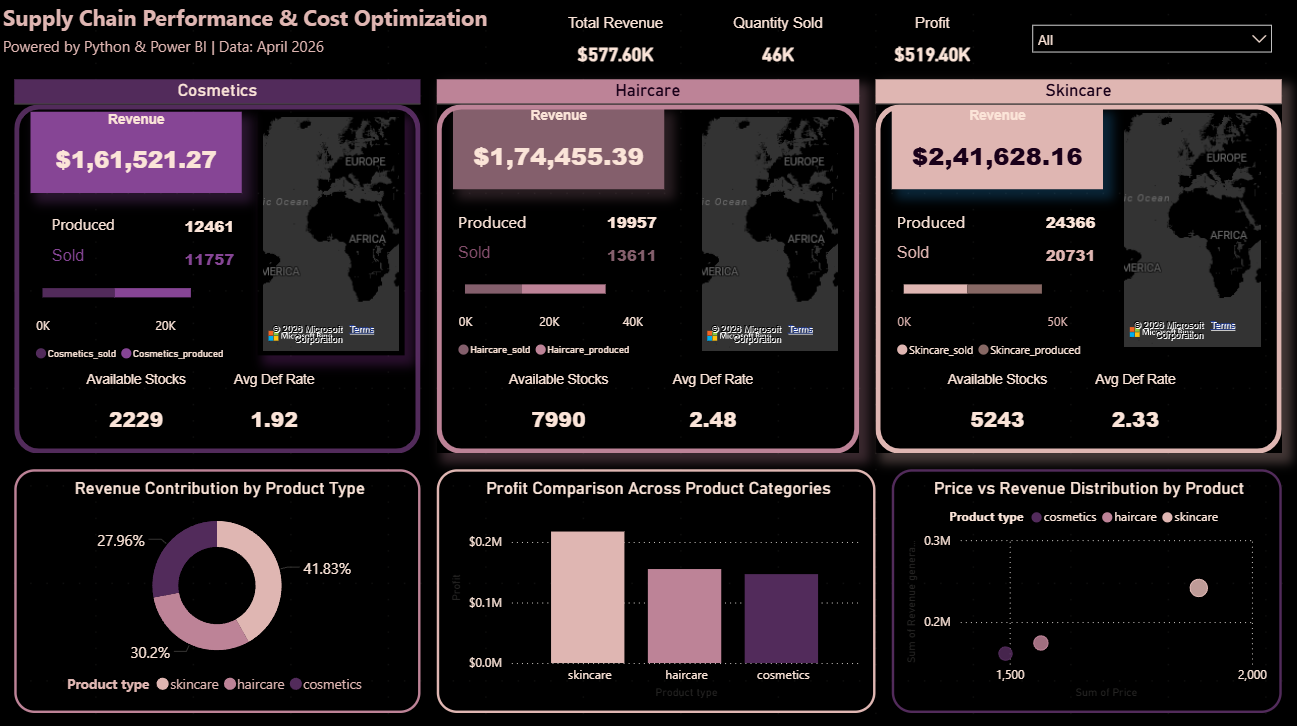

The dashboard page shown, as its layout file describes it:
{"tool":"powerbi","page":{"name":"Supply Chain Dashboard","canvas":[1280,720],"ordinal":0},"visuals":[{"type":"textbox","box":[0,0,496,48],"z":0},{"type":"textbox","box":[0,32,336,48],"z":1000},{"type":"cardVisual","title":"Total Revenue","fields":{"Data":["_Measures.Total_revenue"]},"box":[512,16,192,64],"z":2000},{"type":"cardVisual","title":"Quantity Sold","fields":{"Data":["_Measures.Total_quantity_sold"]},"box":[672,16,192,64],"z":3000},{"type":"cardVisual","title":"Revenue","fields":{"Data":["_Measures.Cosmetics_revenue"]},"box":[32,112,208,80],"z":4000},{"type":"cardVisual","title":"Revenue","fields":{"Data":["_Measures.Haircare_revenue"]},"box":[448,108.5,208,80],"z":5000},{"type":"cardVisual","title":"Revenue","fields":{"Data":["_Measures.Skincare_revenue"]},"box":[880,108.5,208,80],"z":6000},{"type":"cardVisual","title":"Total Revenue","fields":{"Data":["_Measures.Cosmetics_produced"]},"box":[160,192,96,64],"z":7000},{"type":"cardVisual","title":"Total Revenue","fields":{"Data":["_Measures.Haircare_produced"]},"box":[576,188.5,96,64],"z":8000},{"type":"cardVisual","title":"Total Revenue","fields":{"Data":["_Measures.Skincare_produced"]},"box":[1008,188.5,96,64],"z":9000},{"type":"cardVisual","title":"Total Revenue","fields":{"Data":["_Measures.Cosmetics_sold"]},"box":[160,224,96,64],"z":10000},{"type":"cardVisual","title":"Total Revenue","fields":{"Data":["_Measures.Skincare_sold"]},"box":[1008,220.5,96,64],"z":11000},{"type":"cardVisual","title":"Total Revenue","fields":{"Data":["_Measures.Haircare_sold"]},"box":[576,220.5,96,64],"z":12000},{"type":"textbox","box":[48,208,80,32],"z":13000},{"type":"textbox","box":[48,240,80,32],"z":14000},{"type":"textbox","box":[448,204.5,80,32],"z":15000},{"type":"textbox","box":[880,204.5,80,32],"z":16000},{"type":"textbox","box":[448,236.5,80,32],"z":17000},{"type":"textbox","box":[880,236.5,64,32],"z":18000},{"type":"cardVisual","title":"Available Stocks","fields":{"Data":["_Measures.Cosmetics_avialble_stock"]},"box":[80,368,112,80],"z":19000},{"type":"cardVisual","title":"Available Stocks","fields":{"Data":["_Measures.Haircare_avialble_stock"]},"box":[496,367.5,112,80],"z":20000},{"type":"cardVisual","title":"Available Stocks","fields":{"Data":["_Measures.Skincare_avialble_stock"]},"box":[928,367.5,112,80],"z":21000},{"type":"cardVisual","title":"Avg Def Rate","fields":{"Data":["_Measures.Cosmetics_avg_defect_rate"]},"box":[224,368,96,80],"z":22000},{"type":"cardVisual","title":"Avg Def Rate","fields":{"Data":["_Measures.Skincare_avg_defect_rate"]},"box":[1072,367.5,96,80],"z":23000},{"type":"cardVisual","title":"Avg Def Rate","fields":{"Data":["_Measures.Haircare_avg_defect_rate"]},"box":[656,368,96,80],"z":24000},{"type":"shape","title":"Cosmetics","box":[16,80,400,368],"z":25000},{"type":"shape","title":"Haircare","box":[432,80,416,368],"z":26000},{"type":"shape","title":"Skincare","box":[864,80,400,368],"z":27000},{"type":"barChart","fields":{"Y":["_Measures.Cosmetics_sold","_Measures.Cosmetics_produced"]},"box":[32,256,208,112],"z":28000},{"type":"barChart","fields":{"Y":["_Measures.Haircare_sold","_Measures.Haircare_produced"]},"box":[448,252.5,192,112],"z":29000},{"type":"barChart","fields":{"Y":["_Measures.Skincare_sold","_Measures.Skincare_produced"]},"box":[880,252.5,208,112],"z":30000},{"type":"filledMap","fields":{"Category":["supply_chain_data.State"],"Series":["supply_chain_data.Product type"]},"box":[256,112,144,240],"z":31000},{"type":"filledMap","fields":{"Category":["supply_chain_data.State"],"Series":["supply_chain_data.Product type"]},"box":[688,112,144,240],"z":32000},{"type":"filledMap","fields":{"Category":["supply_chain_data.State"],"Series":["supply_chain_data.Product type"]},"box":[1104,108.5,144,240],"z":33000},{"type":"columnChart","title":"Profit Comparison Across Product Categories","fields":{"Category":["supply_chain_data.Product type"],"Y":["_Measures.Profit"]},"box":[432,464,432,240],"z":34000},{"type":"scatterChart","title":"Price vs Revenue Distribution by Product","fields":{"X":["Sum(supply_chain_data.Price)"],"Y":["Sum(supply_chain_data.Revenue generated)"],"Size":["_Measures.Total_quantity_sold"],"Series":["supply_chain_data.Product type"]},"box":[880,464,384,240],"z":35000},{"type":"donutChart","title":"Revenue Contribution by Product Type","fields":{"Y":["_Measures.Total_revenue"],"Category":["supply_chain_data.Product type"]},"box":[16,464,400,240],"z":36000},{"type":"cardVisual","title":"Profit","fields":{"Data":["_Measures.Profit"]},"box":[864,16,112,64],"z":37000},{"type":"slicer","fields":{"Values":["supply_chain_data.State","supply_chain_data.Product type"]},"box":[1008,16,256,48],"z":38000}]}

Visuals, with their boxes in screenshot pixels (x1, y1, x2, y2), scaled from the page's 1280x720 canvas onto the 1297x726 screenshot:
textbox: 0 0 503 48
textbox: 0 32 340 81
"Total Revenue" cardVisual: 519 16 713 81
"Quantity Sold" cardVisual: 681 16 875 81
"Revenue" cardVisual: 32 113 243 194
"Revenue" cardVisual: 454 109 665 190
"Revenue" cardVisual: 892 109 1102 190
"Total Revenue" cardVisual: 162 194 259 258
"Total Revenue" cardVisual: 584 190 681 255
"Total Revenue" cardVisual: 1021 190 1119 255
"Total Revenue" cardVisual: 162 226 259 290
"Total Revenue" cardVisual: 1021 222 1119 287
"Total Revenue" cardVisual: 584 222 681 287
textbox: 49 210 130 242
textbox: 49 242 130 274
textbox: 454 206 535 238
textbox: 892 206 973 238
textbox: 454 238 535 271
textbox: 892 238 957 271
"Available Stocks" cardVisual: 81 371 195 452
"Available Stocks" cardVisual: 503 371 616 451
"Available Stocks" cardVisual: 940 371 1054 451
"Avg Def Rate" cardVisual: 227 371 324 452
"Avg Def Rate" cardVisual: 1086 371 1184 451
"Avg Def Rate" cardVisual: 665 371 762 452
"Cosmetics" shape: 16 81 422 452
"Haircare" shape: 438 81 859 452
"Skincare" shape: 875 81 1281 452
barChart - _Measures.Cosmetics_sold x _Measures.Cosmetics_produced: 32 258 243 371
barChart - _Measures.Haircare_sold x _Measures.Haircare_produced: 454 255 648 368
barChart - _Measures.Skincare_sold x _Measures.Skincare_produced: 892 255 1102 368
filledMap - supply_chain_data.State x supply_chain_data.Product type: 259 113 405 355
filledMap - supply_chain_data.State x supply_chain_data.Product type: 697 113 843 355
filledMap - supply_chain_data.State x supply_chain_data.Product type: 1119 109 1265 351
"Profit Comparison Across Product Categories" columnChart: 438 468 875 710
"Price vs Revenue Distribution by Product" scatterChart: 892 468 1281 710
"Revenue Contribution by Product Type" donutChart: 16 468 422 710
"Profit" cardVisual: 875 16 989 81
slicer - supply_chain_data.State x supply_chain_data.Product type: 1021 16 1281 65
